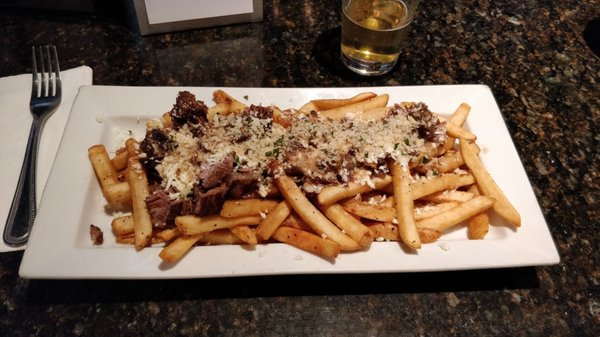burger: (2, 43, 63, 246)
pizza: (340, 1, 417, 76)
